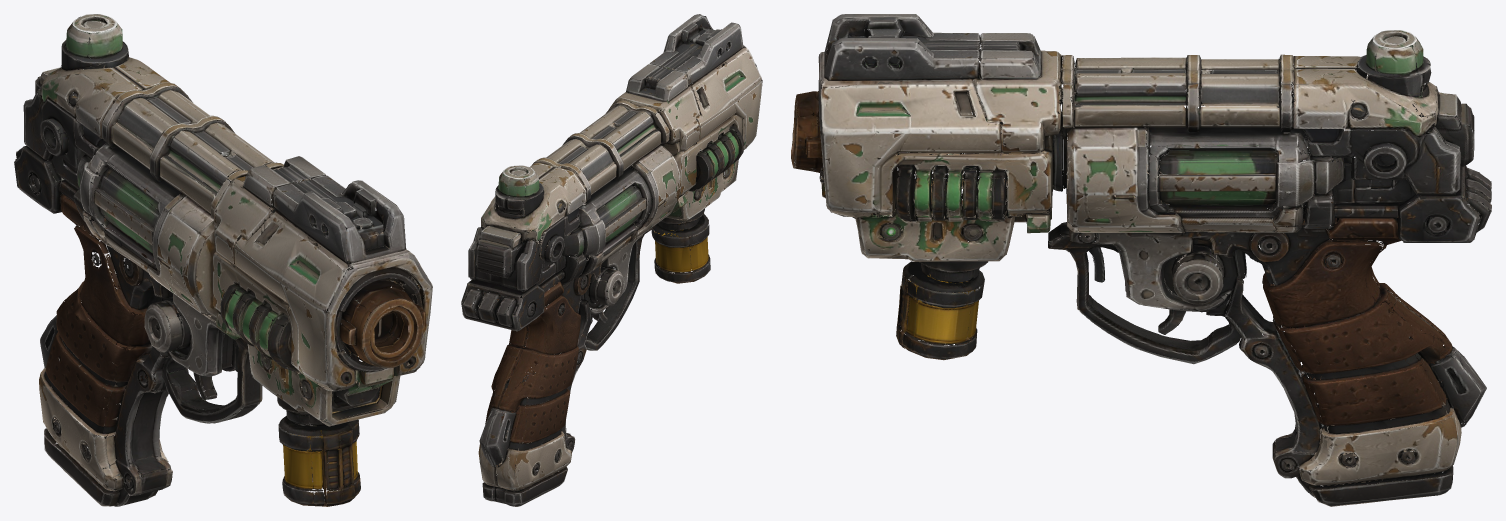
File: pistol.glb
The picture shows the model from 3 angles, left to right: view 1: azimuth 30°, elevation 25°; view 2: azimuth 150°, elevation 25°; view 3: azimuth 270°, elevation 25°; orthographic projection. The views are drawn at different scales.
Parts seen in each view (by area): view 1: Gunslinger_Pistol; view 2: Gunslinger_Pistol; view 3: Gunslinger_Pistol.
Part boxes in pixels (<box>): Gunslinger_Pistol: <box>14,14,432,506</box>; Gunslinger_Pistol: <box>461,14,762,506</box>; Gunslinger_Pistol: <box>791,14,1491,506</box>.
Size of the model in its own units: 0.0986 by 0.3095 by 0.4186.
Materials: 1 (1 with a texture image).
